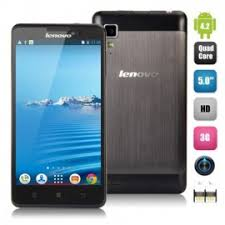lenovo: (11, 21, 103, 207)
